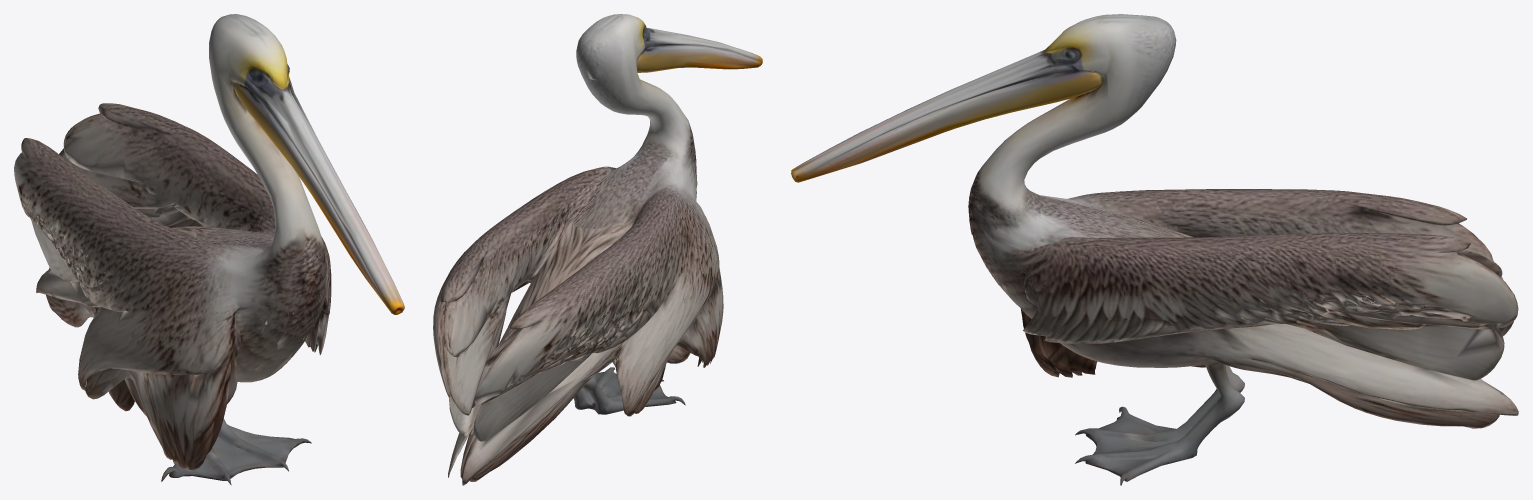
The model's file is brown-pelican.glb.
3 views of the same model, side by side, from view 1: azimuth 30°, elevation 25°; view 2: azimuth 150°, elevation 25°; view 3: azimuth 270°, elevation 25° (orthographic). The views are drawn at different scales.
Visible parts, largest first — view 1: material; view 2: material; view 3: material.
Boxes of the visible parts, <box> form: material: <box>14,14,404,485</box>; material: <box>433,14,762,485</box>; material: <box>791,14,1518,485</box>.
Bounding box in the file's own units: 0.294 × 0.7018 × 1.06.
Materials: 1 (1 with a texture image).
